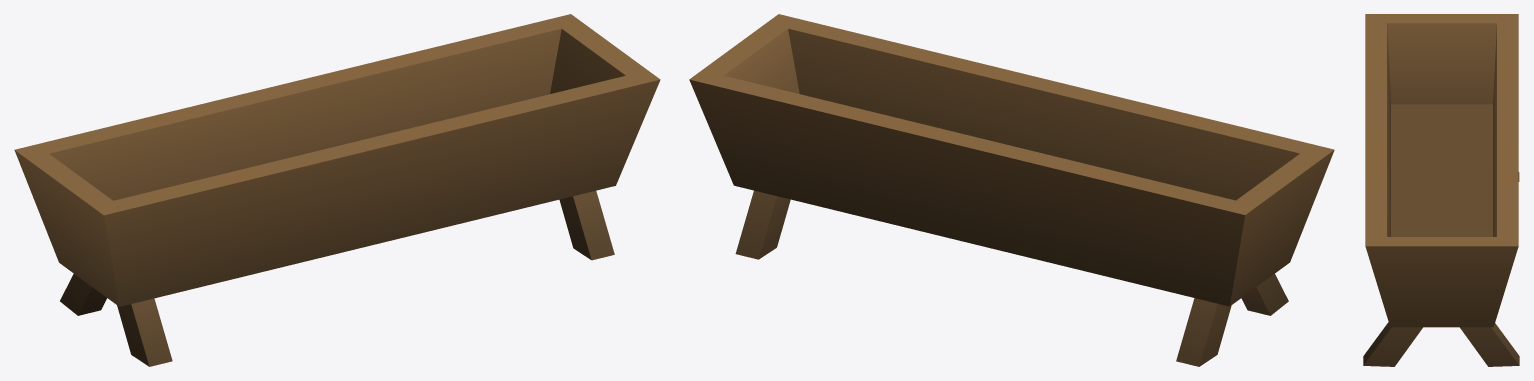
File: Wooden_Feeder001.fbx
The picture shows the model from 3 angles, left to right: view 1: azimuth 30°, elevation 25°; view 2: azimuth 150°, elevation 25°; view 3: azimuth 270°, elevation 25°; orthographic projection. The views are drawn at different scales.
Parts seen in each view (by area): view 1: Cube.008; view 2: Cube.008; view 3: Cube.008.
Boxes of the visible parts, x1,y1,x2,y2 form: Cube.008: (14,14,660,366); Cube.008: (689,14,1334,366); Cube.008: (1363,14,1519,366).
Bounding box in the file's own units: 341 × 96.06 × 97.01.
